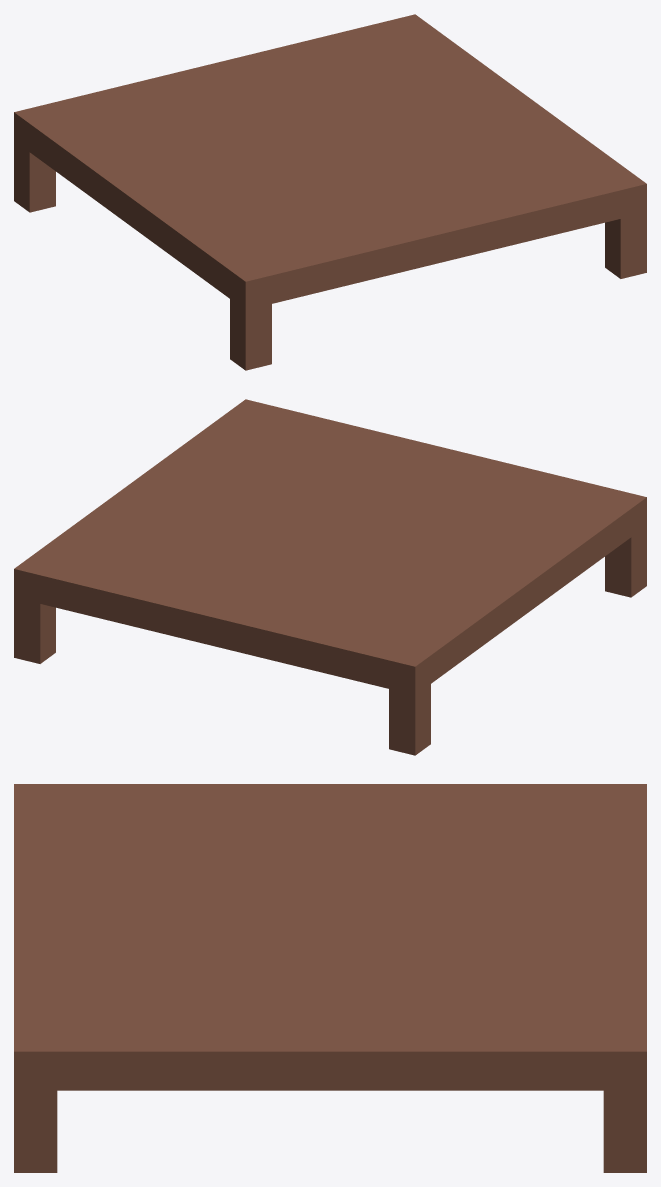
The model's file is table_geo.fbx.
3 renders of one model, top to bottom at view 1: azimuth 30°, elevation 25°; view 2: azimuth 150°, elevation 25°; view 3: azimuth 270°, elevation 25°, orthographic. The views are drawn at different scales.
Visible parts, largest first — view 1: table_geo; view 2: table_geo; view 3: table_geo.
Boxes of the visible parts, <box> form: table_geo: <box>14,14,646,370</box>; table_geo: <box>14,399,646,755</box>; table_geo: <box>14,784,646,1172</box>.
Size of the model in its own units: 2.17 by 0.4592 by 2.17.
Materials: 1 (1 with a texture image).
